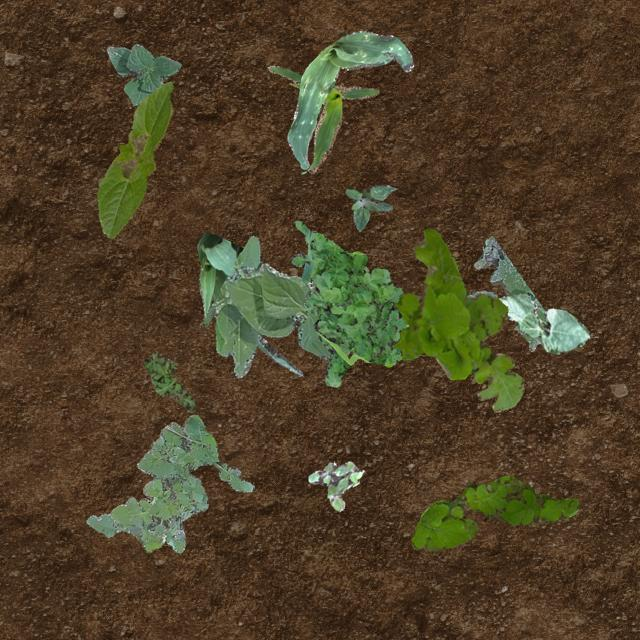crop: (202, 235, 351, 376), (286, 30, 412, 168), (196, 230, 302, 376), (266, 64, 378, 172), (96, 80, 172, 238), (498, 294, 588, 354), (106, 42, 180, 104)
weed: (392, 227, 522, 410), (85, 414, 254, 552), (290, 220, 408, 386), (410, 474, 578, 550), (466, 236, 546, 350), (143, 352, 195, 412), (307, 460, 363, 510), (345, 183, 395, 230)
